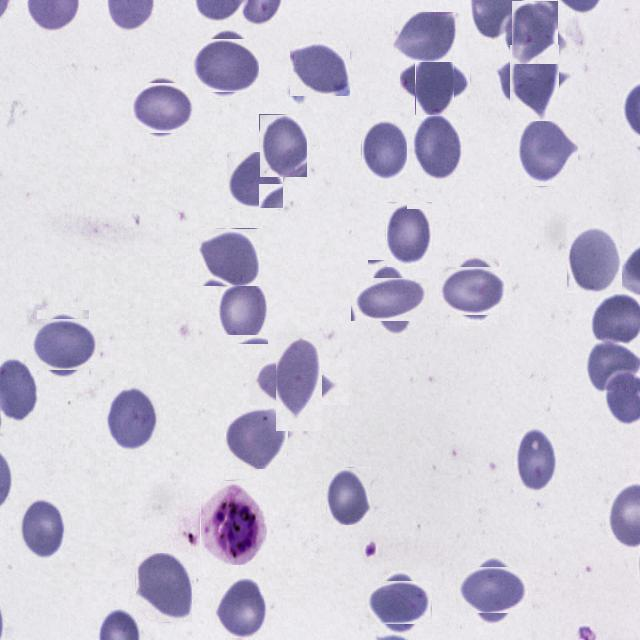red blood cell: (262, 344, 336, 418), (502, 52, 566, 115), (567, 222, 622, 294), (518, 120, 578, 186), (193, 34, 256, 96), (136, 553, 192, 622), (226, 408, 288, 470), (360, 268, 421, 329), (198, 228, 261, 286), (106, 386, 161, 452), (462, 560, 522, 620), (33, 314, 93, 374), (444, 260, 504, 320), (412, 111, 464, 180), (217, 276, 268, 344), (392, 11, 460, 62), (290, 40, 350, 96), (133, 80, 190, 137), (215, 578, 267, 640), (371, 574, 427, 630), (227, 152, 283, 208), (386, 201, 432, 267), (507, 5, 562, 60), (260, 114, 308, 177), (514, 423, 557, 493), (408, 53, 462, 108), (18, 497, 65, 560), (361, 119, 407, 180), (326, 467, 371, 525)
schizont: (200, 480, 267, 565)
